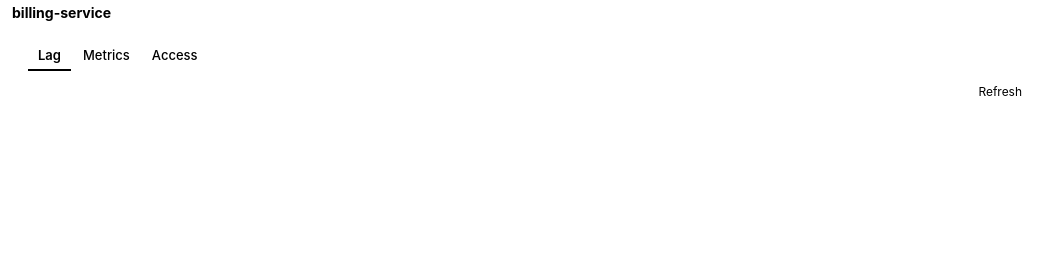
ConsumerGroupDetailPanel › filters rows by topic name via the search box
The image size is (1048, 257).
Step 1. Click the button "Refresh" → x=1000, y=92, box [964,78,1036,105]
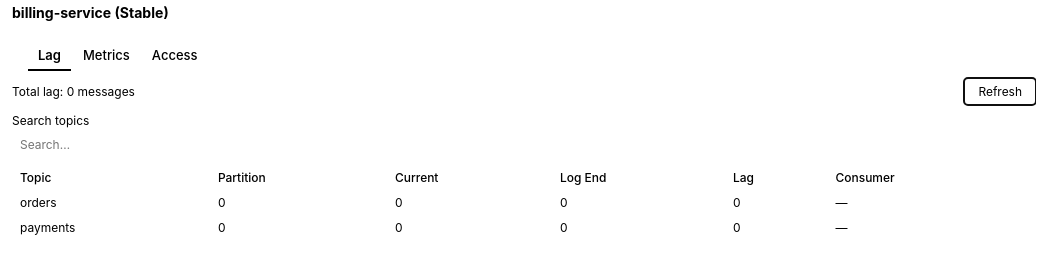
Check: the text "payments" is shown, box [12,215,210,240]
Step 2. Type "pay" into the field labelled "Search topics" → x=524, y=144, box [12,132,1036,157]
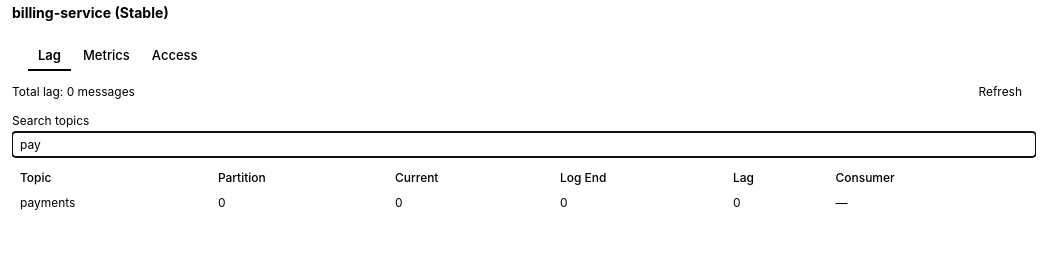
Check: the text "payments" is shown, box [12,190,210,215]
Check: the text "orders" is gone
